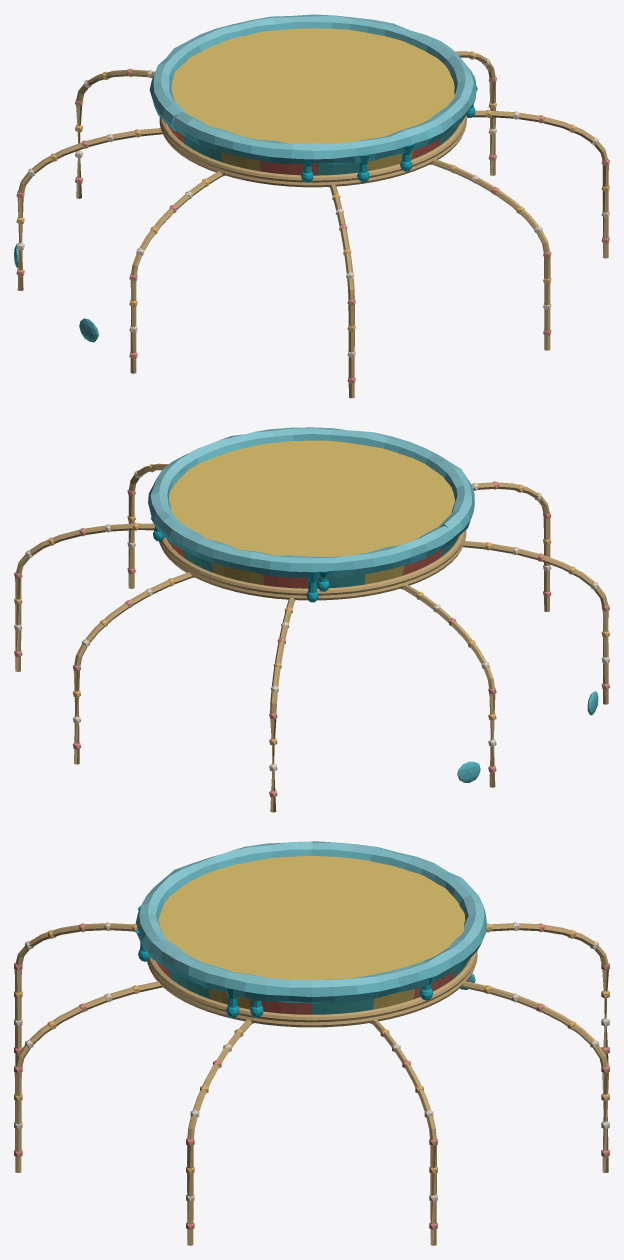
Rendered from goo_jar_trim_1_top@beach.fbx.
3 renders of one model, top to bottom at view 1: azimuth 30°, elevation 25°; view 2: azimuth 150°, elevation 25°; view 3: azimuth 270°, elevation 25°, orthographic. The views are drawn at different scales.
Visible parts, largest first — view 1: goo_jar_trim_1_top; view 2: goo_jar_trim_1_top; view 3: goo_jar_trim_1_top.
Part boxes in pixels (x1=…): goo_jar_trim_1_top: x1=14, y1=14, x2=609, y2=398; goo_jar_trim_1_top: x1=14, y1=427, x2=609, y2=812; goo_jar_trim_1_top: x1=14, y1=841, x2=609, y2=1245.
Size of the model in its own units: 60.42 by 22.69 by 58.46.
